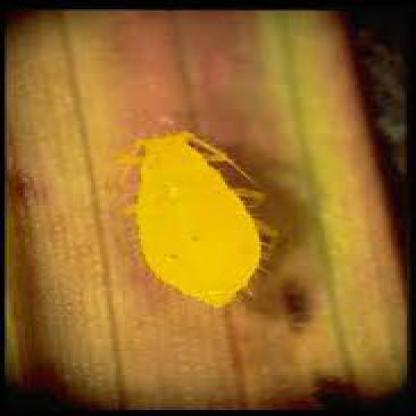schizaphis graminum: (136, 134, 266, 311)
